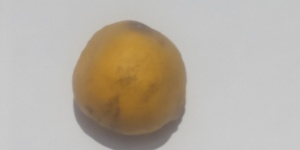BAD: (70, 20, 191, 136)
